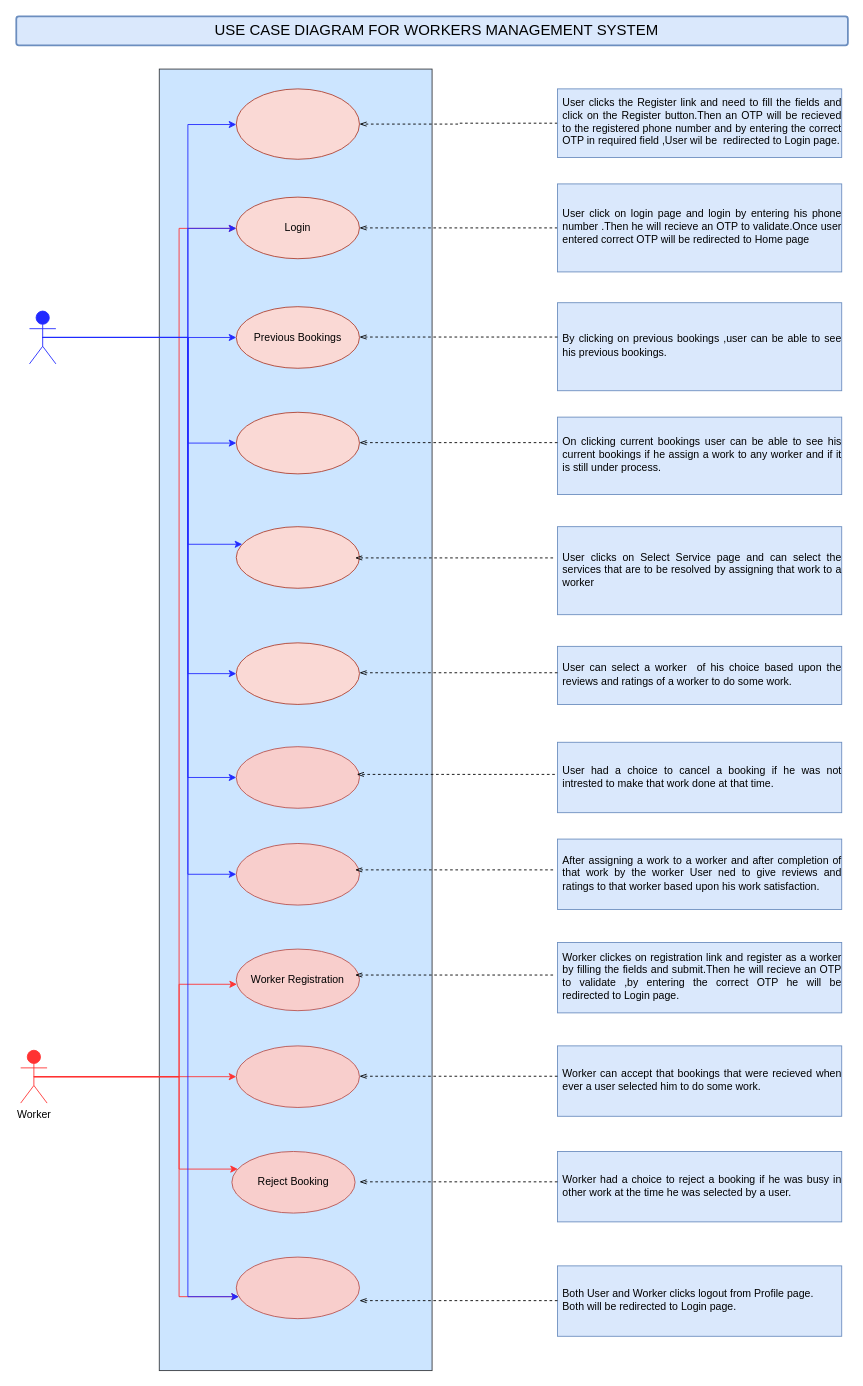
This 863x1386 diagram has some shape labels left out. The centre of each missing label's shape, as x and y in pixels:
"Accept Booking" belongs at (x=297, y=1076).
"Cancel Booking" belongs at (x=297, y=777).
"Current Bookings" belongs at (x=297, y=442).
"Logout" belongs at (x=297, y=1287).
"Ratings and Reviews" belongs at (x=297, y=874).
"Select Service" belongs at (x=297, y=557).
"Select Worker" belongs at (x=297, y=673).
"User" belongs at (x=42, y=337).
"User Registratoin" belongs at (x=297, y=123).
